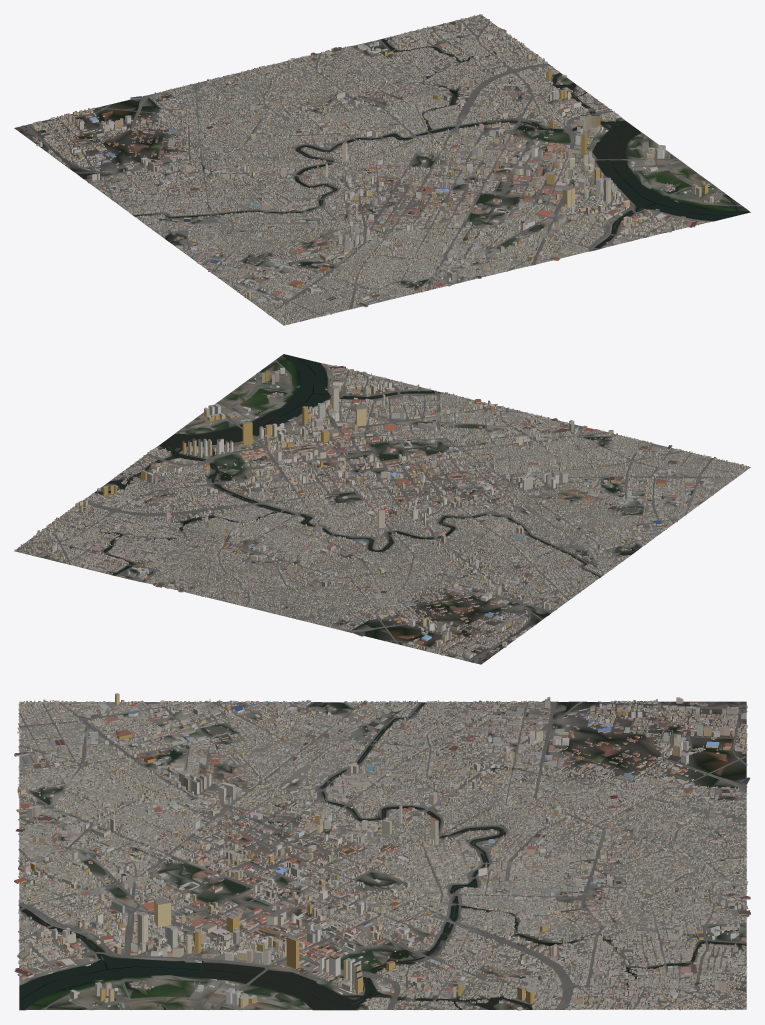
3 renders of one model, top to bottom at view 1: azimuth 30°, elevation 25°; view 2: azimuth 150°, elevation 25°; view 3: azimuth 270°, elevation 25°, orthographic. The views are drawn at different scales.
Visible parts, largest first — view 1: buildings, ground, roads, water; view 2: buildings, ground, roads, water; view 3: buildings, ground, roads, water.
Boxes of the visible parts, left/top/right/bottom form: buildings: left=28, top=14, right=719, bottom=324; ground: left=14, top=15, right=750, bottom=325; roads: left=18, top=19, right=741, bottom=321; water: left=81, top=38, right=750, bottom=267; buildings: left=14, top=364, right=749, bottom=659; ground: left=14, top=355, right=750, bottom=664; roads: left=23, top=360, right=739, bottom=663; water: left=81, top=354, right=637, bottom=638; buildings: left=14, top=693, right=750, bottom=1010; ground: left=19, top=701, right=746, bottom=1010; roads: left=18, top=701, right=747, bottom=1010; water: left=19, top=702, right=746, bottom=1009.
Size of the model in its own units: 5632 by 276 by 5675.
